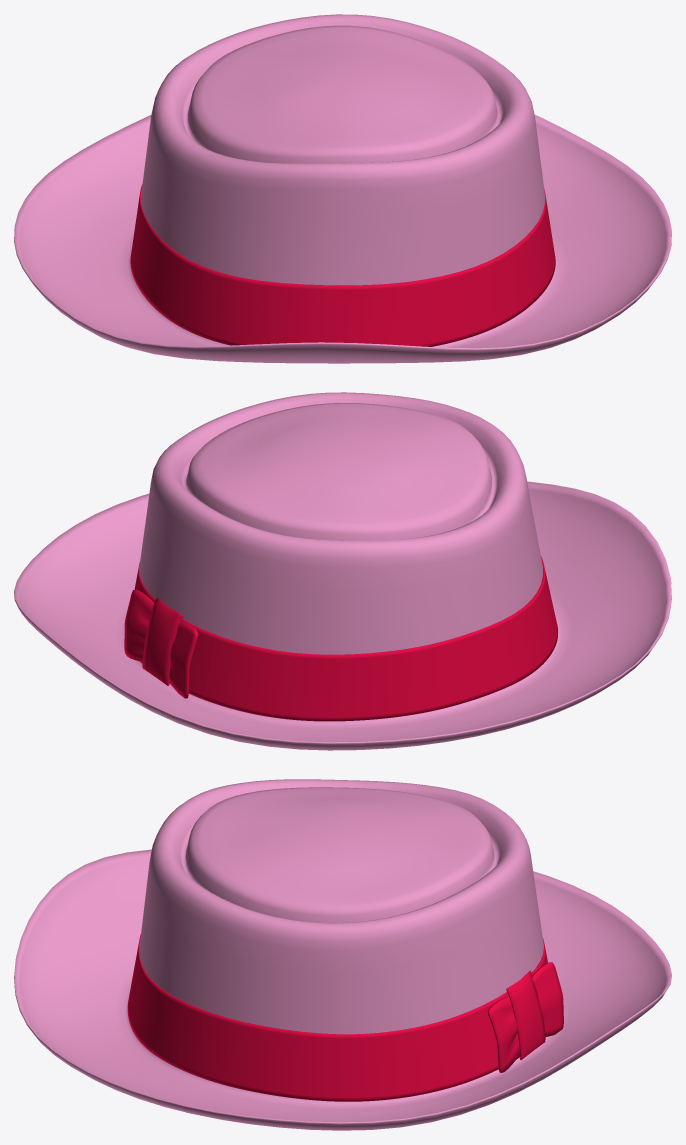
Rendered from hatPink.fbx.
3 renders of one model, top to bottom at view 1: azimuth 30°, elevation 25°; view 2: azimuth 150°, elevation 25°; view 3: azimuth 270°, elevation 25°, orthographic.
Visible parts, largest first — view 1: Hat; view 2: Hat; view 3: Hat.
Part boxes in pixels (x1,y1,x2,y2): Hat: (14,14,671,363); Hat: (14,392,671,750); Hat: (14,779,671,1130).
Bounding box in the file's own units: 322 × 105 × 322.
